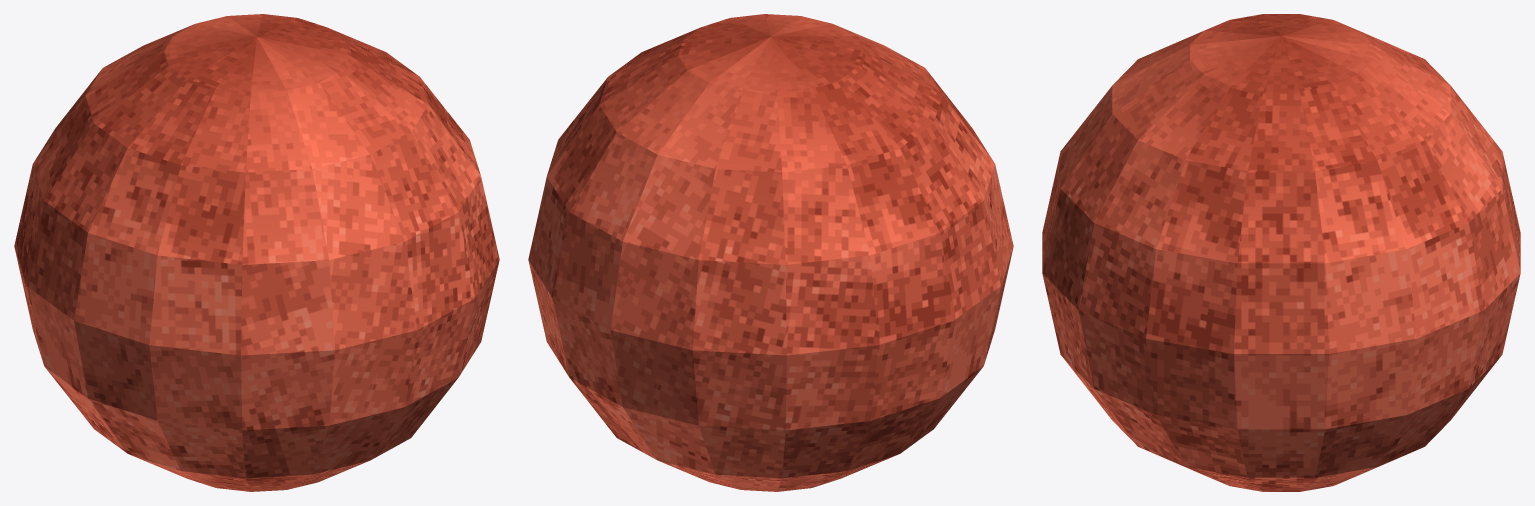
Rendered from Planet2.fbx.
The picture shows the model from 3 angles, left to right: view 1: azimuth 30°, elevation 25°; view 2: azimuth 150°, elevation 25°; view 3: azimuth 270°, elevation 25°; orthographic projection.
Parts seen in each view (by area): view 1: LVL2; view 2: LVL2; view 3: LVL2.
Boxes of the visible parts, box(x1,y1,x2,y2) form: LVL2: box(14, 14, 499, 491); LVL2: box(528, 14, 1013, 491); LVL2: box(1042, 14, 1520, 491).
Size of the model in its own units: 1088 by 1088 by 1088.
1 material, 1 textured.
